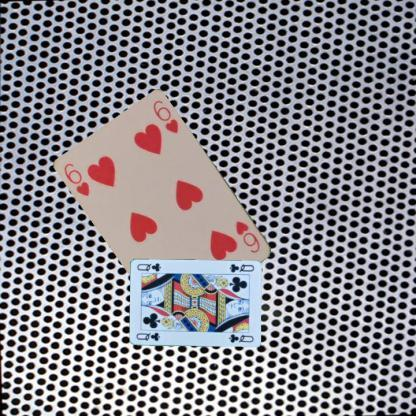6h: (61, 160, 92, 198), (233, 219, 262, 254)
Qc: (226, 261, 255, 274), (134, 330, 162, 342)
